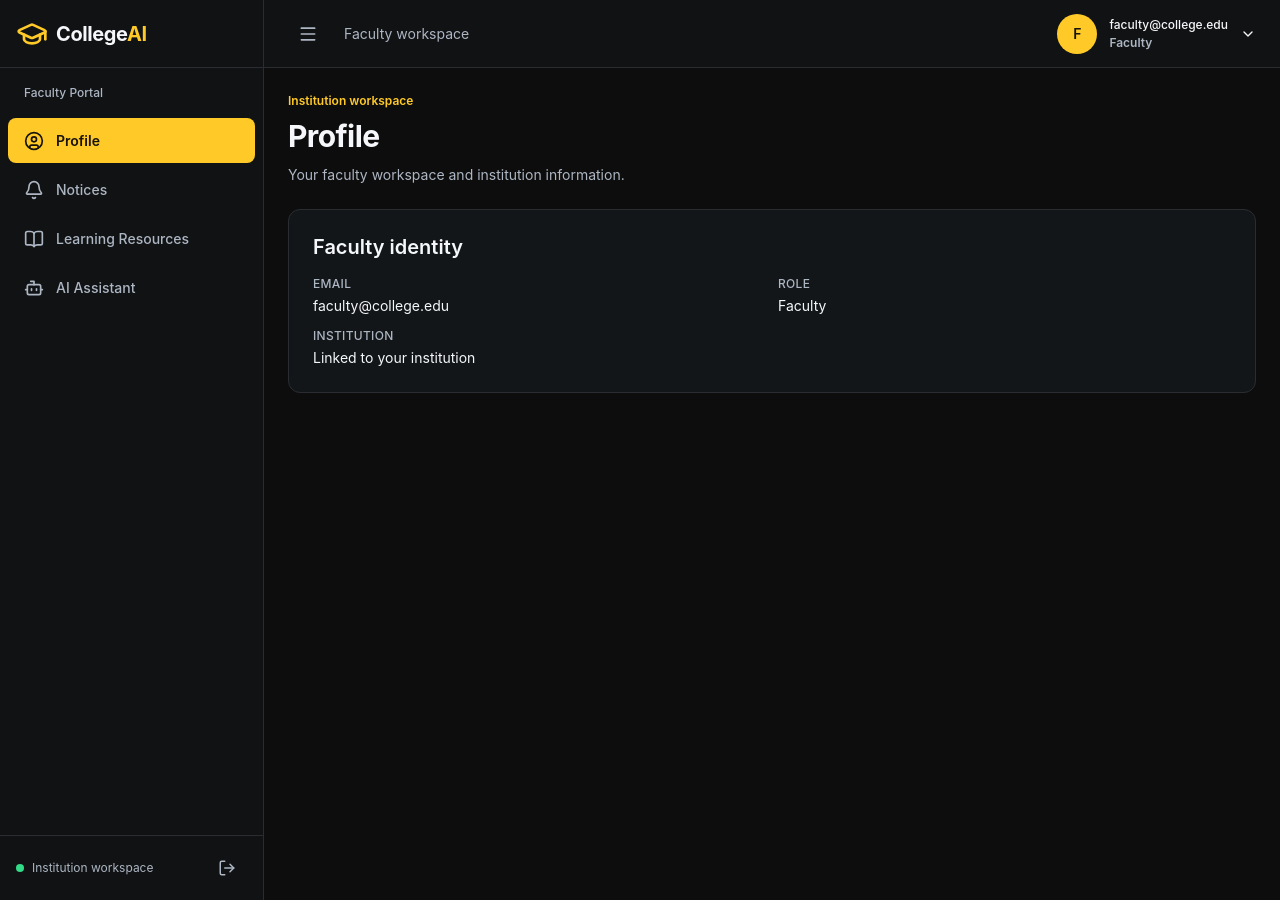
Test: faculty identity workspace › keeps the existing notices placeholder inert
The image size is (1280, 900).
Click the button "Notices" at (132, 190), box 8,167 -> 255,212
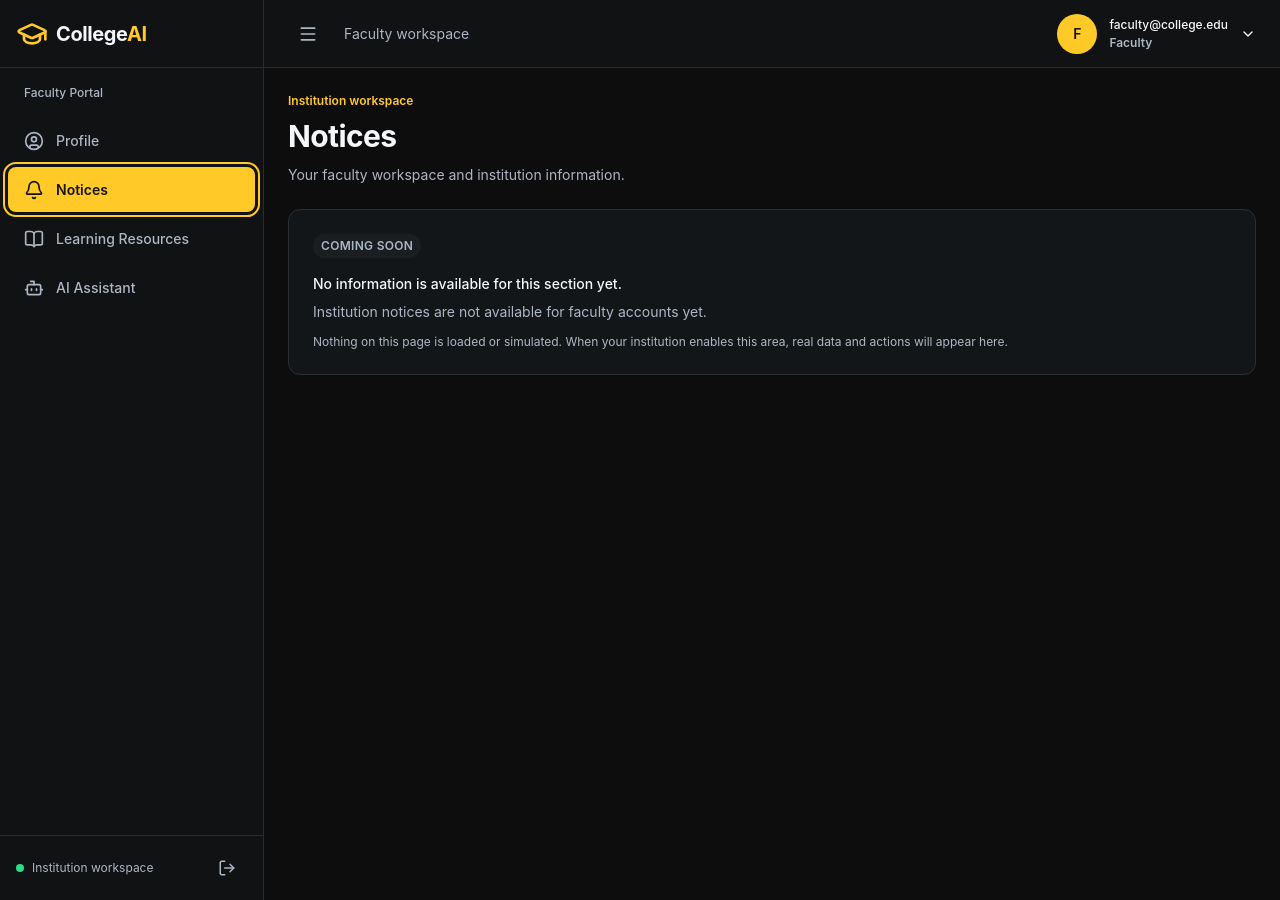
Result: the element "Coming Soon" is shown at 288,208 -> 1256,374
